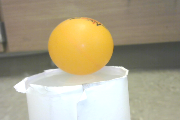PingPongBall: (49, 18, 114, 76)
